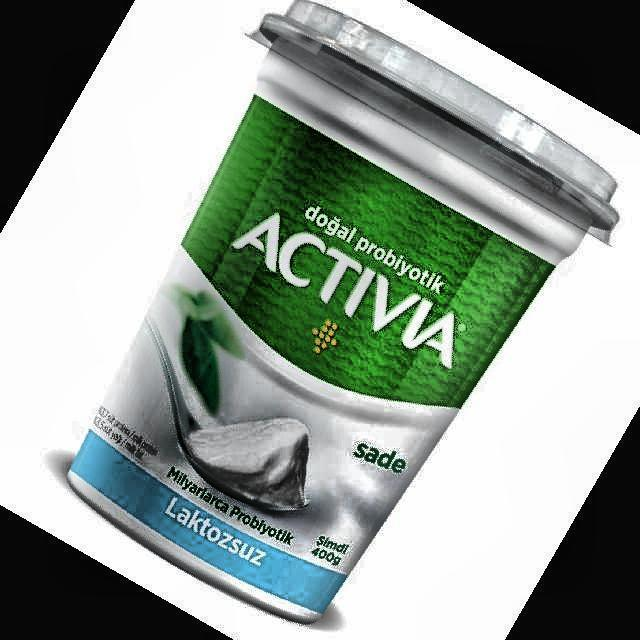plastic: (69, 1, 618, 622)
